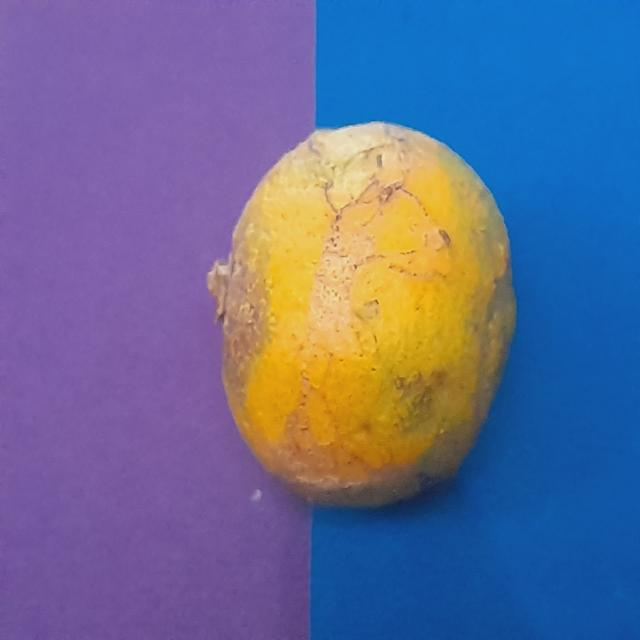thrips: (212, 120, 514, 518)
